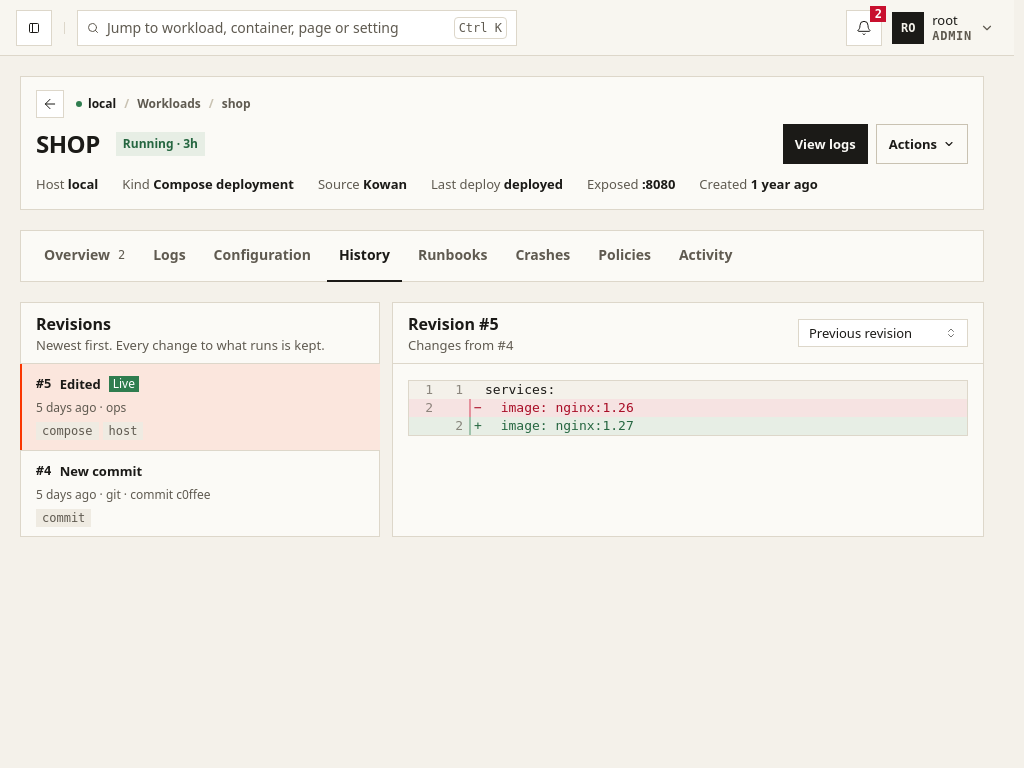
Test: deployment history › warns that a git revision gets pinned and reports failures
Expected: the list named "Revisions" is shown, x1=20 y1=364 x2=380 y2=537
What coordinates should you click on to do the following:
click the button "#4 New commit 5 days ago · git · commit c0ffee commit"
I would click on:
 (200, 494)
Its box is x1=20 y1=451 x2=380 y2=537.
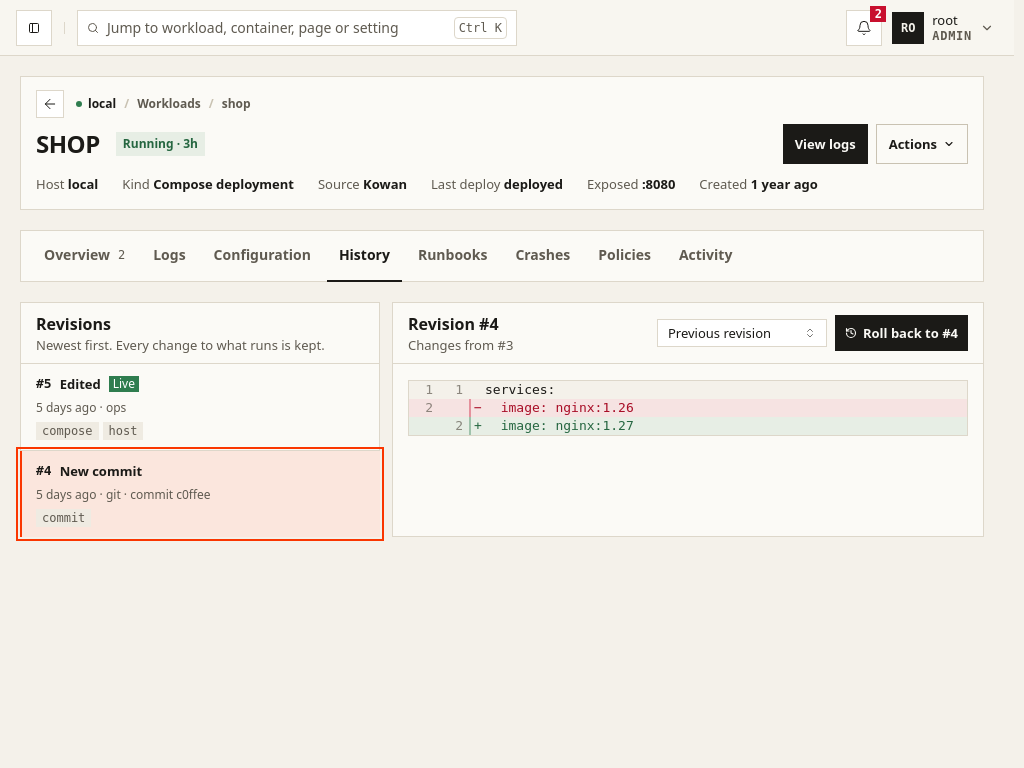
What coordinates should you click on to do the following:
click the button "Roll back to #4"
I would click on:
 (902, 333)
Its box is x1=835 y1=315 x2=968 y2=351.
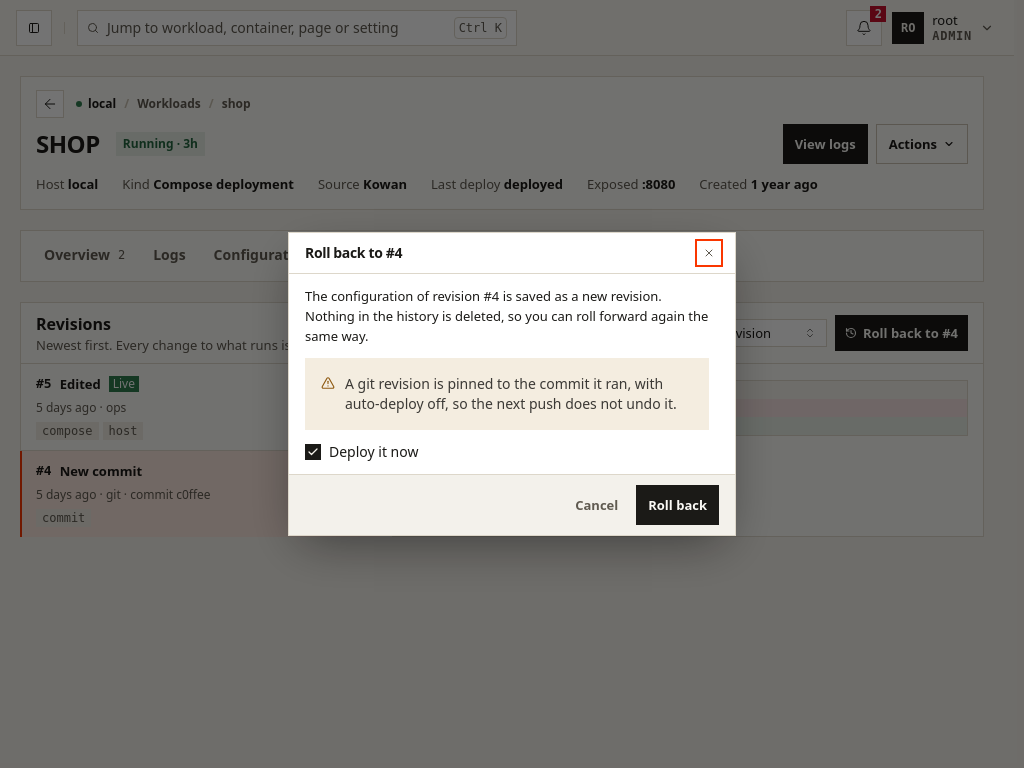
Expected: the text "pinned to the commit it ran" is shown, x1=345 y1=374 x2=677 y2=413
What coordinates should you click on to do the following:
click the button "Roll back"
I would click on:
 (678, 505)
Its box is x1=636 y1=485 x2=719 y2=525.
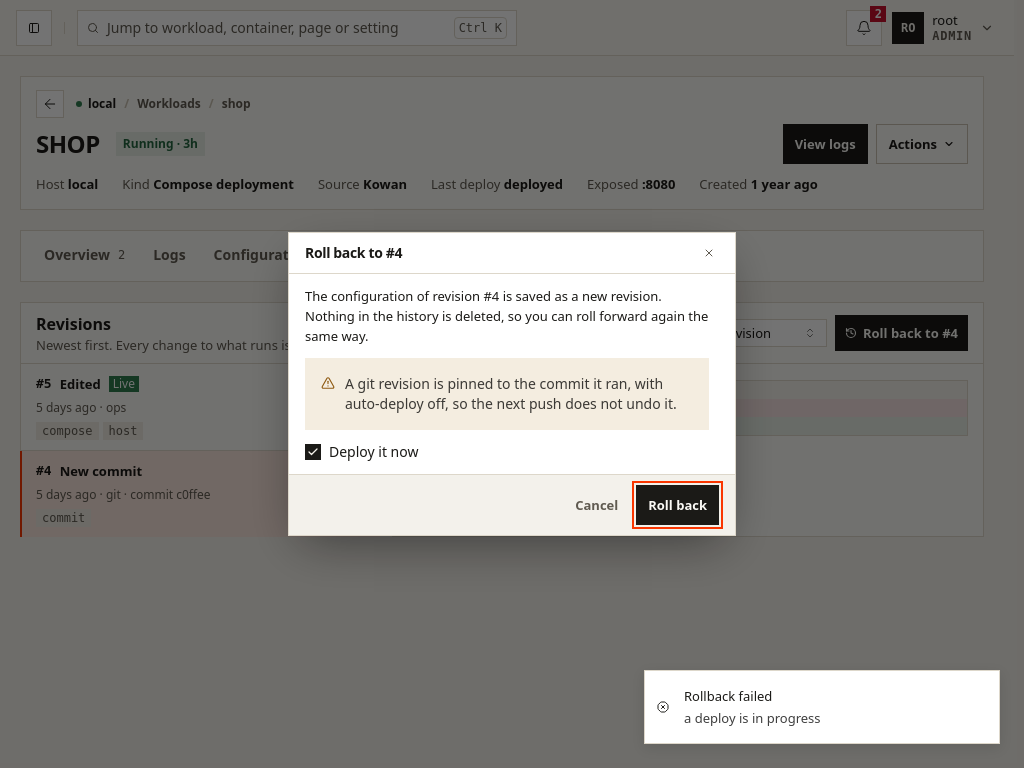
Expected: the text "a deploy is in progress" is shown, x1=684 y1=709 x2=821 y2=727
